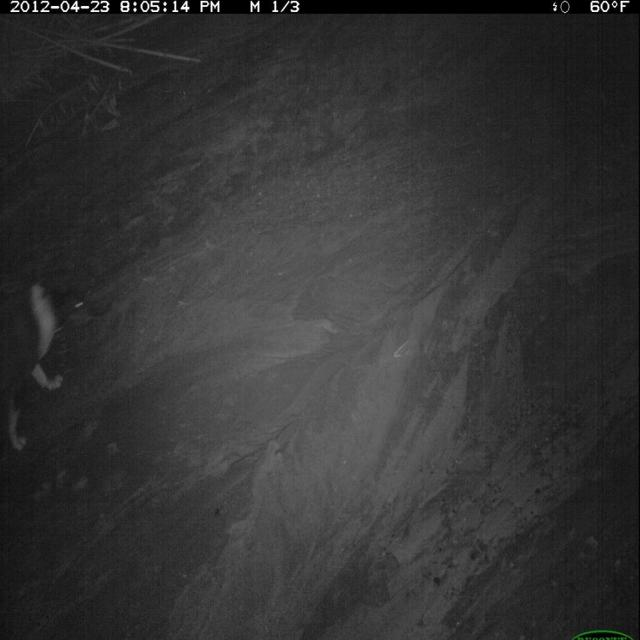dog: (4, 268, 94, 458)
